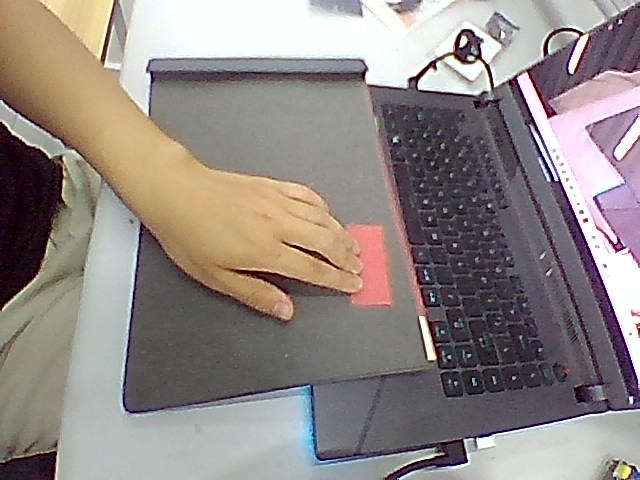card: (348, 224, 392, 306)
